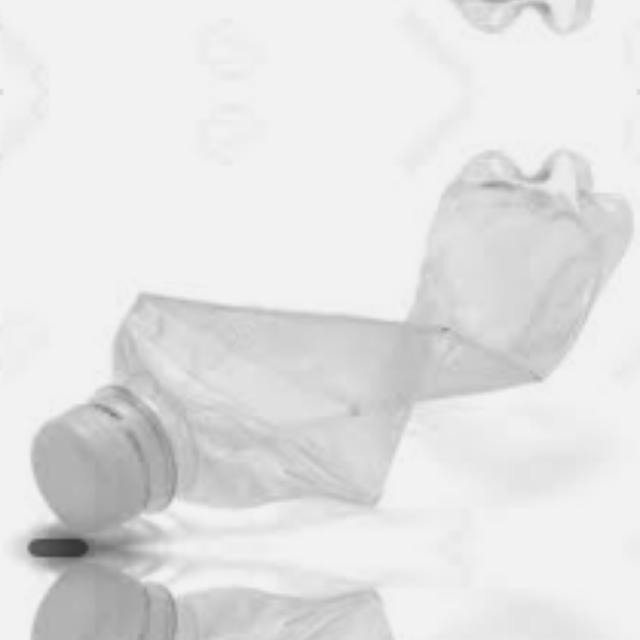Plastic: (26, 104, 636, 542), (26, 552, 636, 640), (26, 0, 636, 77)
